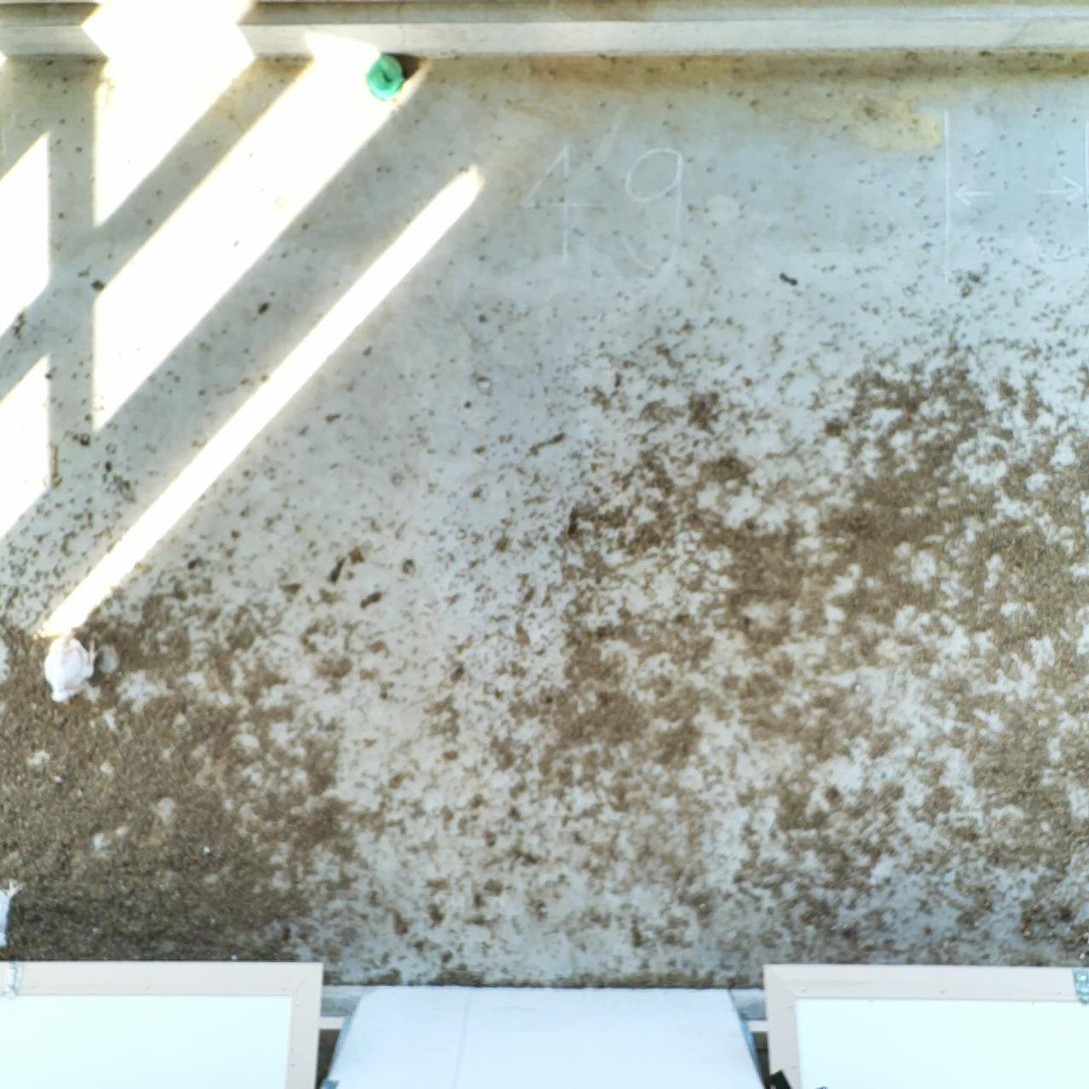chicken: (39, 626, 106, 710), (0, 874, 23, 945)
